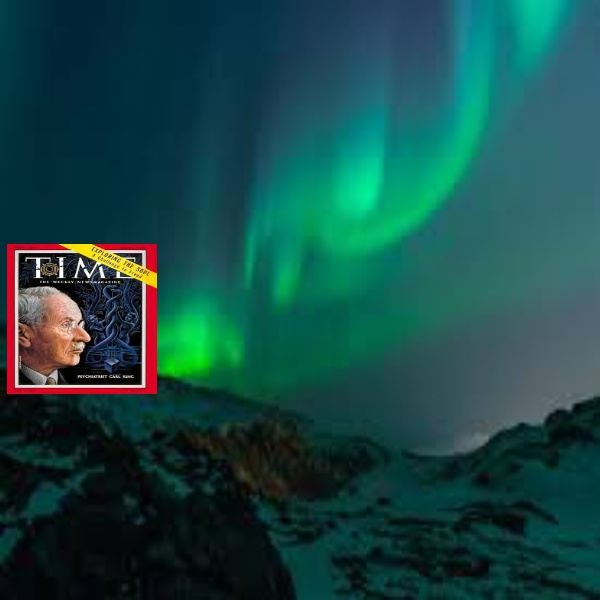time_cover: (2, 237, 159, 401)
